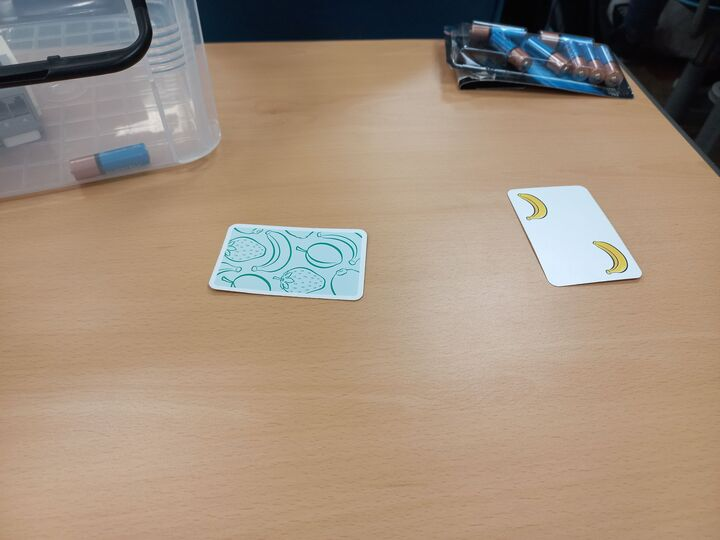banana2: (505, 182, 646, 287)
